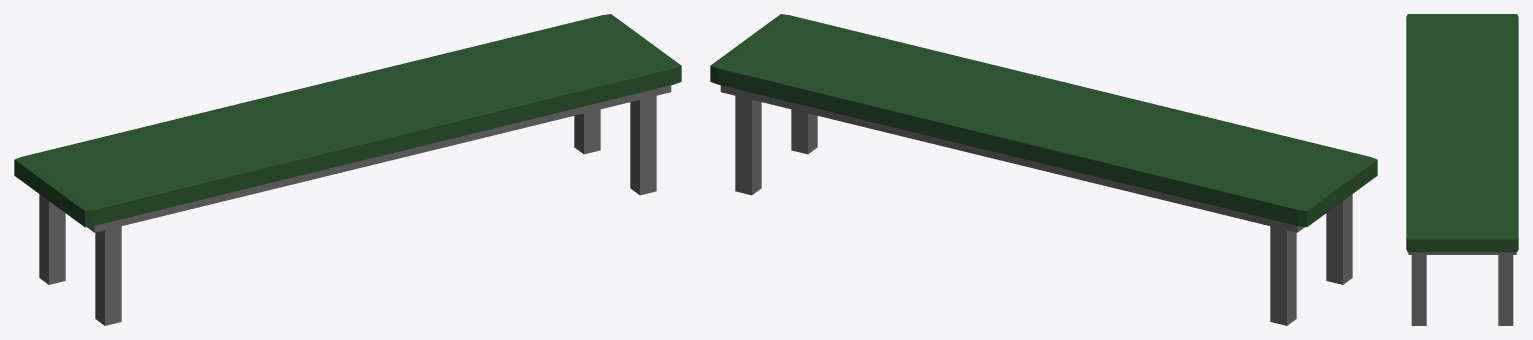
Rendered from Bench.fbx.
3 renders of one model, left to right at view 1: azimuth 30°, elevation 25°; view 2: azimuth 150°, elevation 25°; view 3: azimuth 270°, elevation 25°, orthographic. The views are drawn at different scales.
Parts seen in each view (by area): view 1: Cube.001, Cube.002, Cube; view 2: Cube.001, Cube.002, Cube; view 3: Cube.001, Cube.002, Cube.
Boxes of the visible parts, <box> form: Cube.001: <box>14,14,681,227</box>; Cube.002: <box>39,96,656,325</box>; Cube: <box>87,85,671,232</box>; Cube.001: <box>710,14,1377,227</box>; Cube.002: <box>735,96,1352,325</box>; Cube: <box>720,85,1304,232</box>; Cube.001: <box>1406,14,1518,252</box>; Cube.002: <box>1411,255,1513,325</box>; Cube: <box>1408,252,1516,254</box>.
Bounding box in the file's own units: 1853 × 363 × 390.
